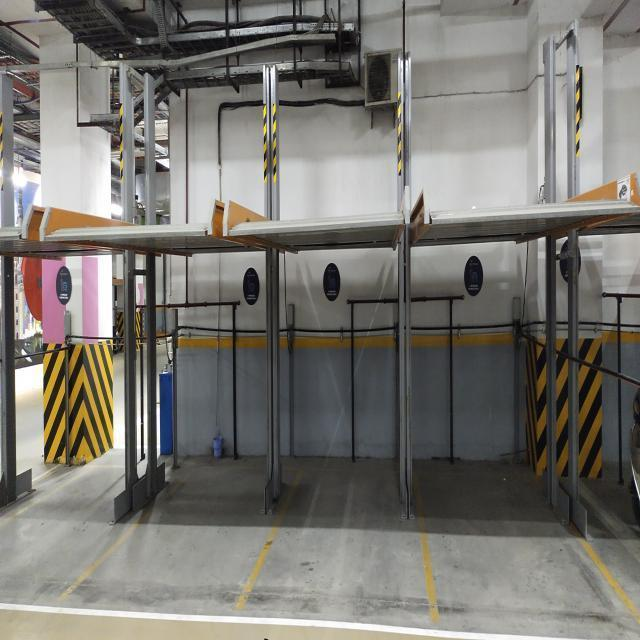space-empty: (413, 424, 640, 635), (280, 436, 454, 640), (58, 440, 269, 607)
